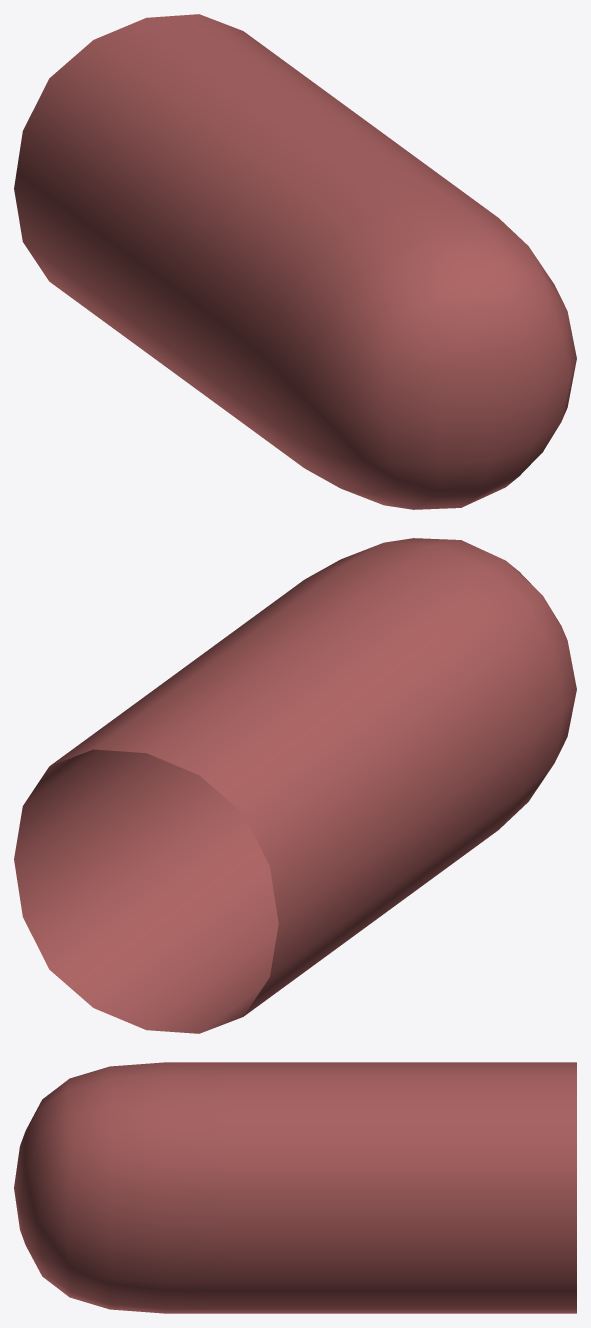
The model's file is Nose04.fbx.
3 views of the same model, one above another, from view 1: azimuth 30°, elevation 25°; view 2: azimuth 150°, elevation 25°; view 3: azimuth 270°, elevation 25° (orthographic). The views are drawn at different scales.
Parts seen in each view (by area): view 1: Nose5; view 2: Nose5; view 3: Nose5.
Boxes of the visible parts, x1=… form: Nose5: x1=14, y1=14, x2=576, y2=509; Nose5: x1=14, y1=538, x2=576, y2=1033; Nose5: x1=14, y1=1062, x2=576, y2=1313.
Bounding box in the file's own units: 1.72 × 1.72 × 3.92.
